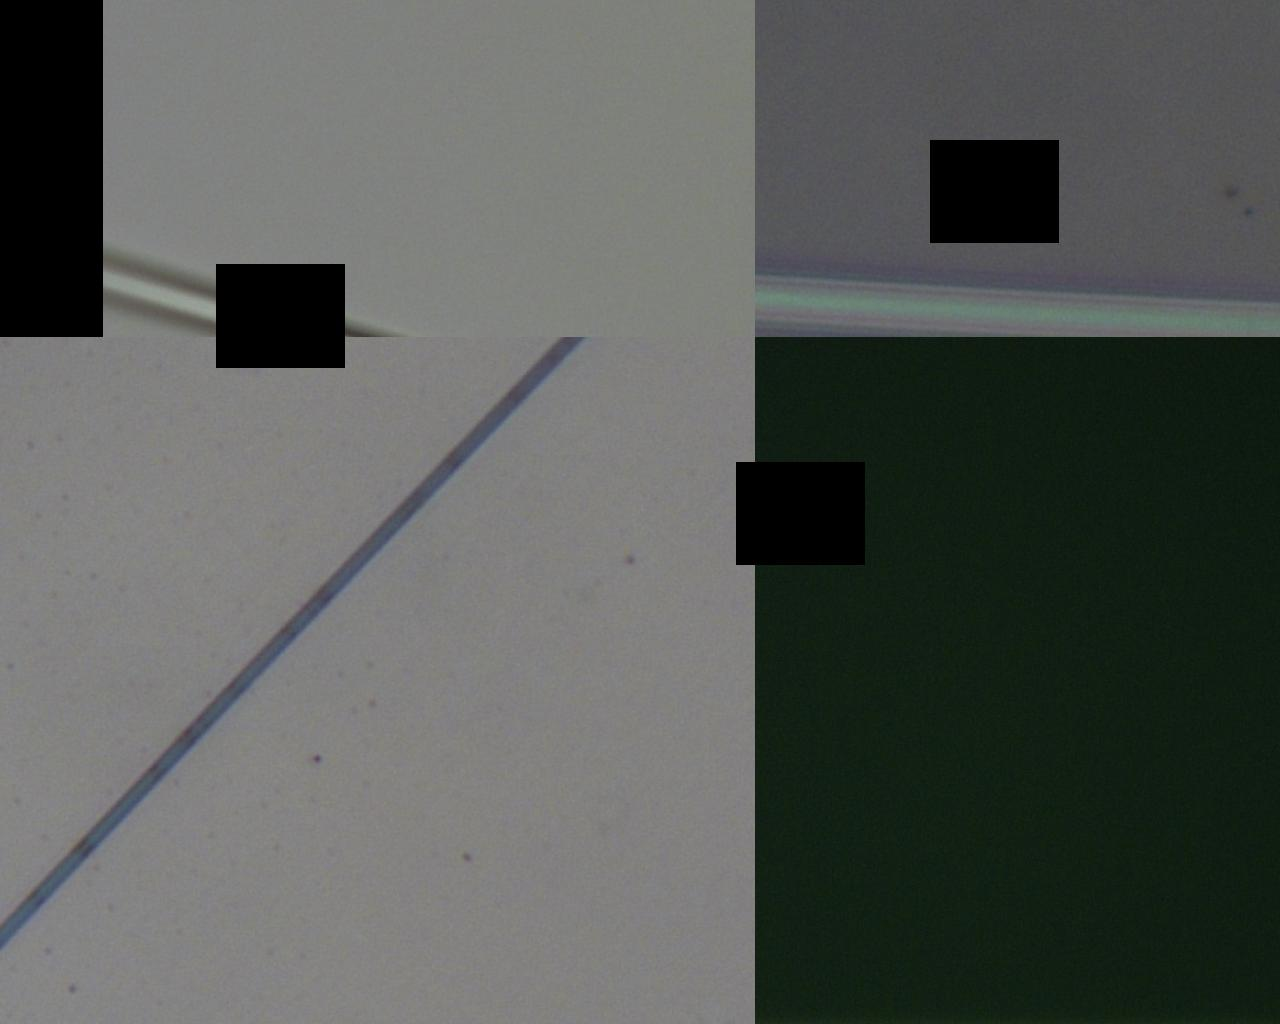fiber: (755, 573, 1280, 1024), (755, 276, 1280, 573), (89, 230, 755, 314), (270, 573, 296, 1024)
